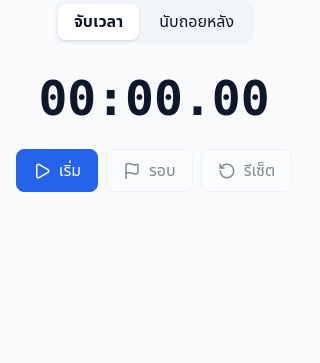
Test: TimerWidget › does not start a countdown of zero seconds
Click the tab "นับถอยหลัง" at [197, 22], box [143,4,250,40]
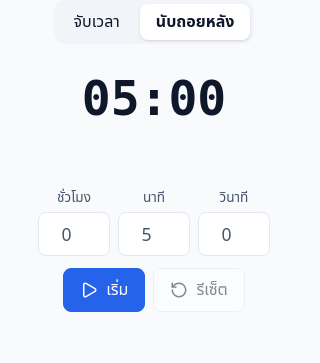
Replace the text in the number field labelled "นาที" with "0" at [154, 234], box [118,212,190,256]
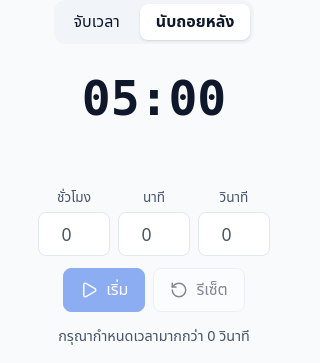
Now the button "เริ่ม" is disabled, box [63,268,145,312]
Now the text "กรุณากำหนดเวลามากกว่า 0 วินาที" is shown, box [58,324,250,347]
